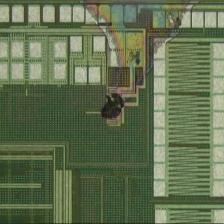PARTICLE: (97, 90, 130, 126)
